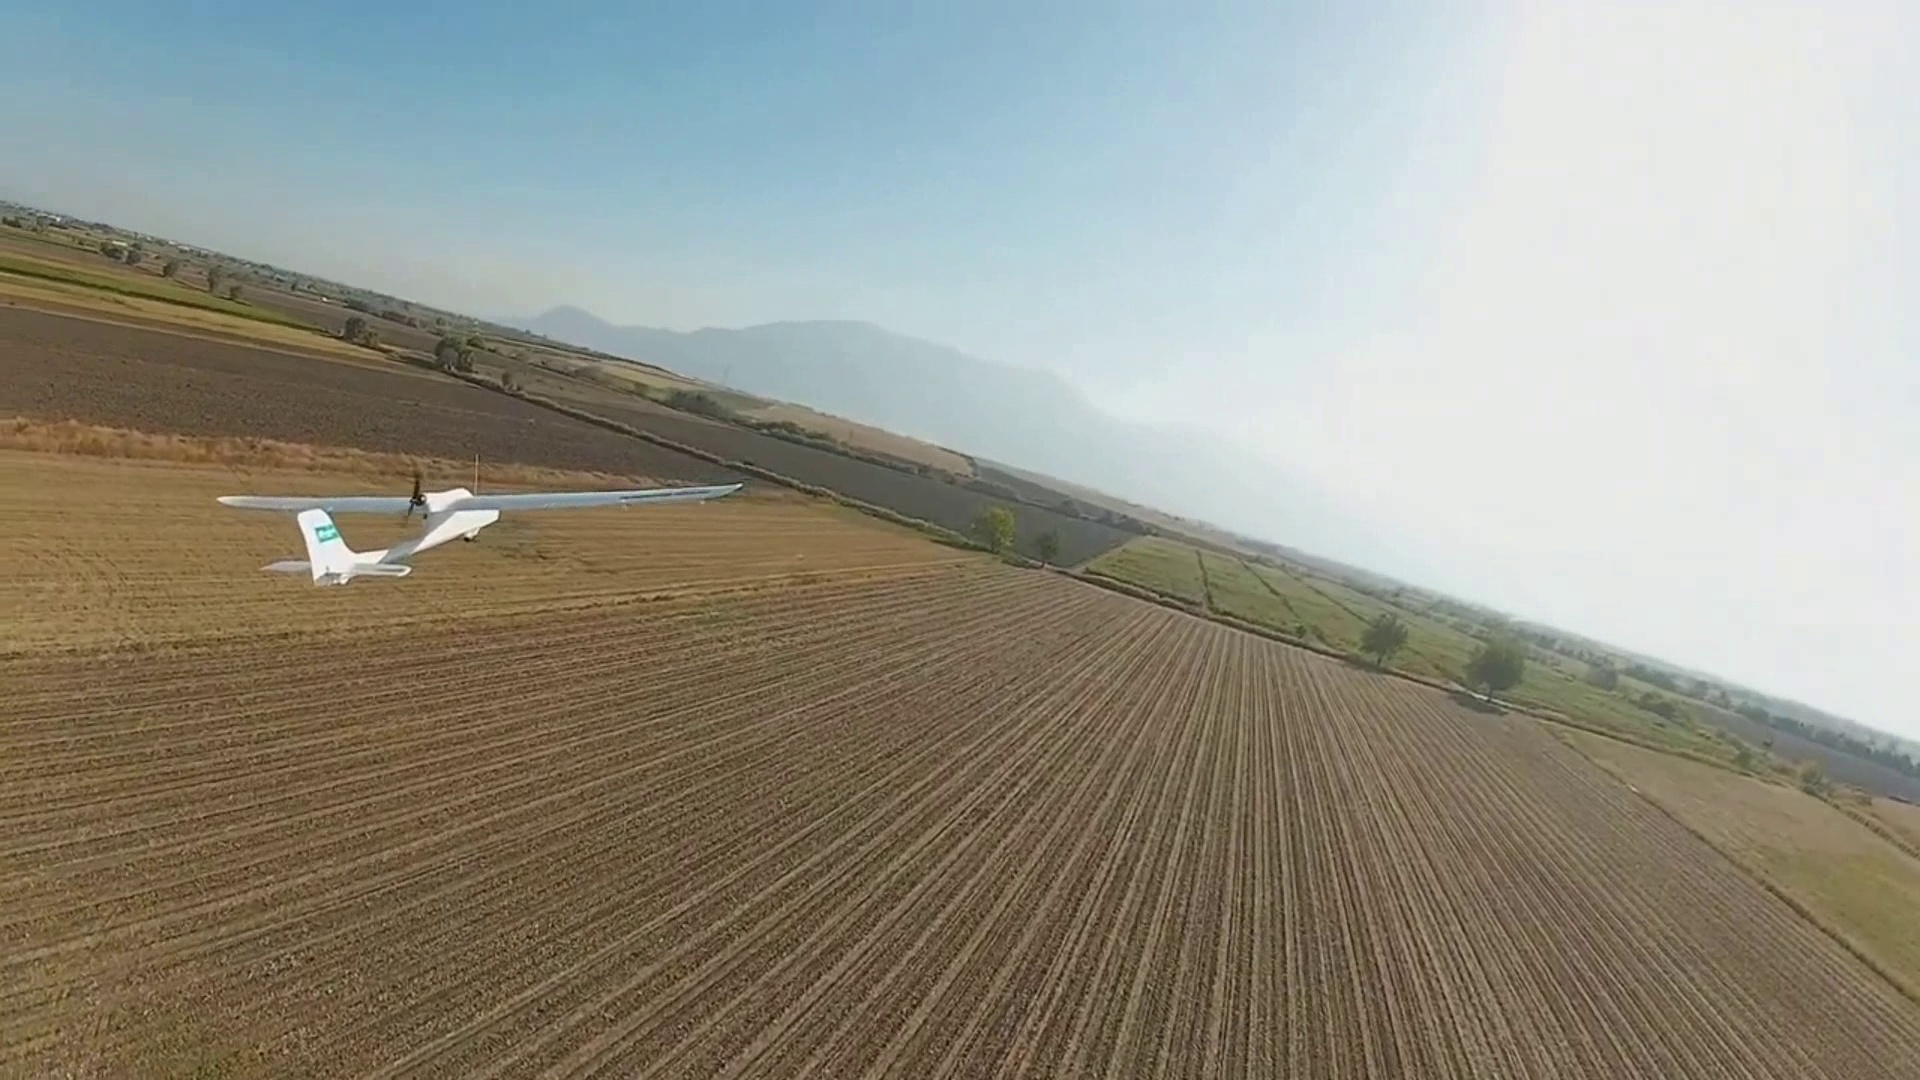airplane: (319, 320, 1912, 796), (215, 468, 744, 582), (215, 479, 501, 584)
